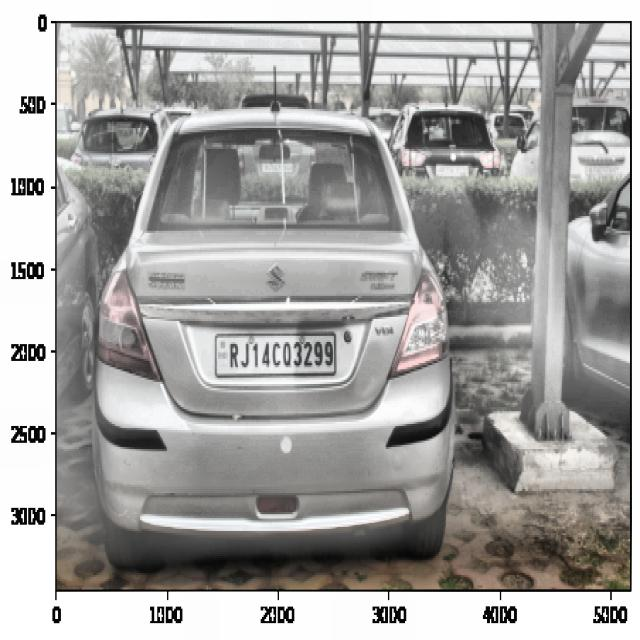license_plate: (222, 333, 339, 377)
